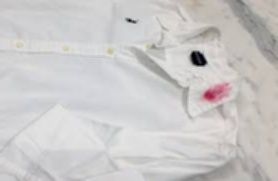lipstick: (201, 80, 232, 110)
